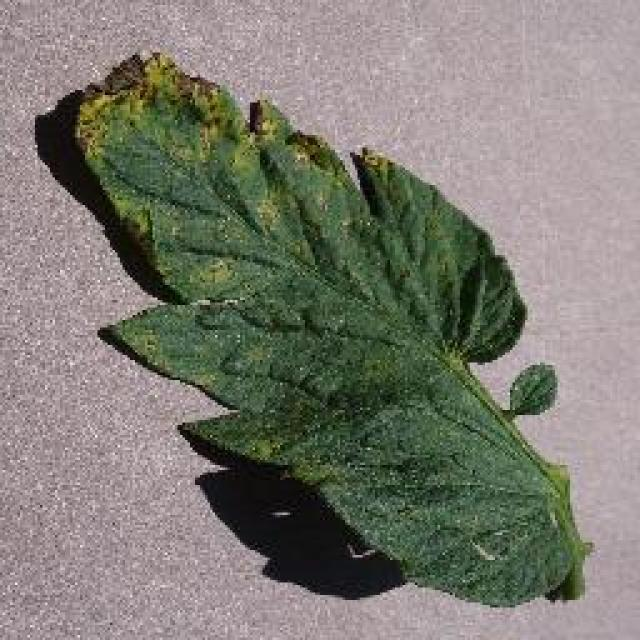Tomato___Septoria_leaf_spot: (75, 52, 588, 605)
